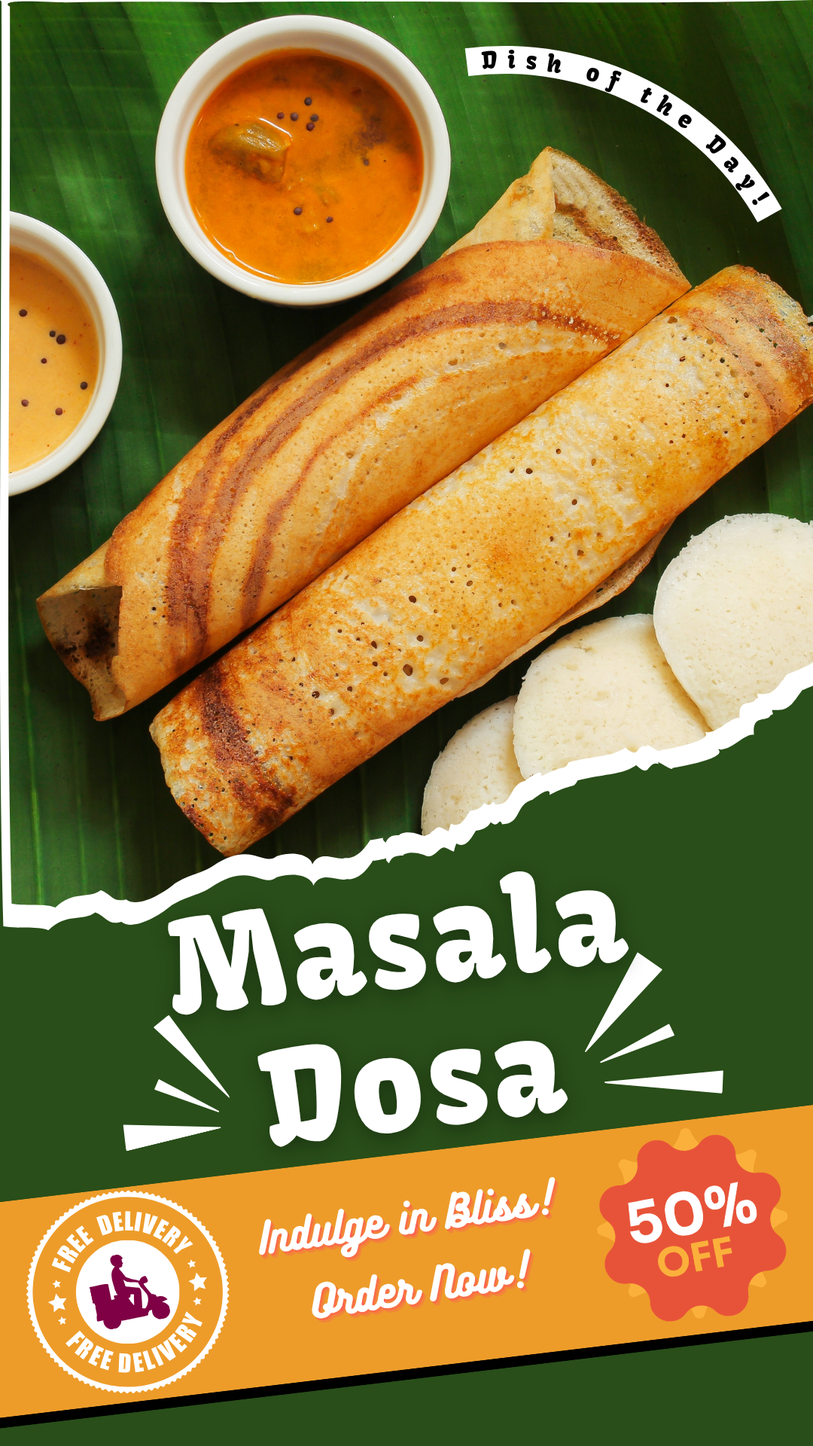Headline: (125, 863, 708, 1137)
Price: (605, 1170, 758, 1294)
Product: (65, 61, 813, 834)
